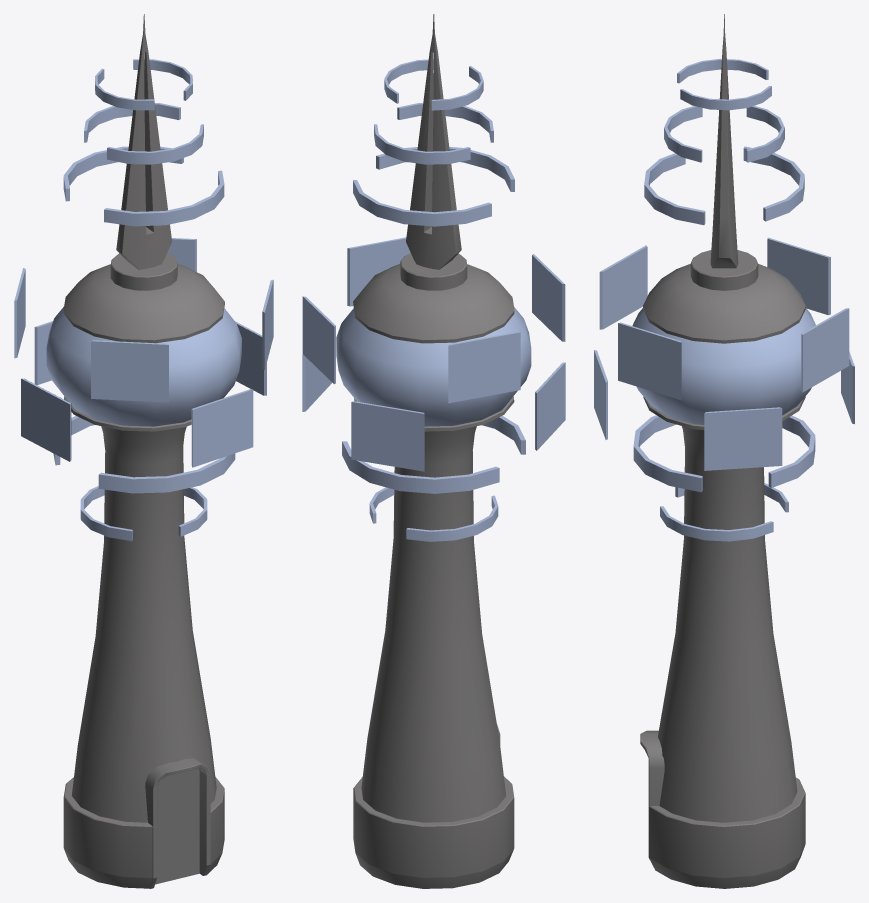
Rendered from Bat_Tour_TV_LP.fbx.
The picture shows the model from 3 angles, left to right: view 1: azimuth 30°, elevation 25°; view 2: azimuth 150°, elevation 25°; view 3: azimuth 270°, elevation 25°; orthographic projection.
Parts seen in each view (by area): view 1: TourTVHolo_low, EcransTV_Verre_low, TourTVHolo_Verre_low, TourTV_Toit_low, TourTV_Porte_low, HoloTV_Holo03_low, TourTV_PorteCadre_low, HoloTV_Holo02_low, HoloTV_Holo04_low, HoloTV_Holo01_low, HoloTV_Holo05_low; view 2: TourTVHolo_low, EcransTV_Verre_low, TourTVHolo_Verre_low, TourTV_Toit_low, HoloTV_Holo02_low, HoloTV_Holo03_low, HoloTV_Holo04_low, HoloTV_Holo01_low, HoloTV_Holo05_low; view 3: TourTVHolo_low, EcransTV_Verre_low, TourTVHolo_Verre_low, TourTV_Toit_low, HoloTV_Holo02_low, HoloTV_Holo03_low, HoloTV_Holo04_low, HoloTV_Holo05_low, HoloTV_Holo01_low, TourTV_PorteCadre_low.
Boxes of the visible parts, left/top/right/bottom form: TourTVHolo_low: left=63, top=253, right=224, bottom=888; EcransTV_Verre_low: left=14, top=238, right=273, bottom=467; TourTVHolo_Verre_low: left=46, top=307, right=241, bottom=426; TourTV_Toit_low: left=116, top=14, right=171, bottom=269; TourTV_Porte_low: left=155, top=768, right=199, bottom=884; HoloTV_Holo03_low: left=63, top=146, right=224, bottom=226; TourTV_PorteCadre_low: left=145, top=758, right=210, bottom=888; HoloTV_Holo02_low: left=53, top=416, right=235, bottom=493; HoloTV_Holo04_low: left=84, top=103, right=203, bottom=164; HoloTV_Holo01_low: left=80, top=486, right=207, bottom=541; HoloTV_Holo05_low: left=95, top=59, right=192, bottom=110; TourTVHolo_low: left=353, top=253, right=514, bottom=888; EcransTV_Verre_low: left=302, top=237, right=565, bottom=471; TourTVHolo_Verre_low: left=336, top=307, right=531, bottom=426; TourTV_Toit_low: left=406, top=14, right=461, bottom=269; HoloTV_Holo02_low: left=342, top=415, right=525, bottom=493; HoloTV_Holo03_low: left=353, top=147, right=514, bottom=226; HoloTV_Holo04_low: left=374, top=103, right=493, bottom=164; HoloTV_Holo01_low: left=369, top=487, right=498, bottom=541; HoloTV_Holo05_low: left=384, top=59, right=483, bottom=110; TourTVHolo_low: left=643, top=250, right=805, bottom=888; EcransTV_Verre_low: left=594, top=237, right=854, bottom=470; TourTVHolo_Verre_low: left=632, top=308, right=815, bottom=424; TourTV_Toit_low: left=710, top=14, right=738, bottom=268; HoloTV_Holo02_low: left=633, top=415, right=815, bottom=492; HoloTV_Holo03_low: left=644, top=146, right=804, bottom=225; HoloTV_Holo04_low: left=664, top=106, right=784, bottom=162; HoloTV_Holo05_low: left=677, top=58, right=771, bottom=110; HoloTV_Holo01_low: left=660, top=483, right=788, bottom=541; TourTV_PorteCadre_low: left=640, top=730, right=664, bottom=870.
Bounding box in the file's own units: 10.74 × 38.28 × 10.74.
